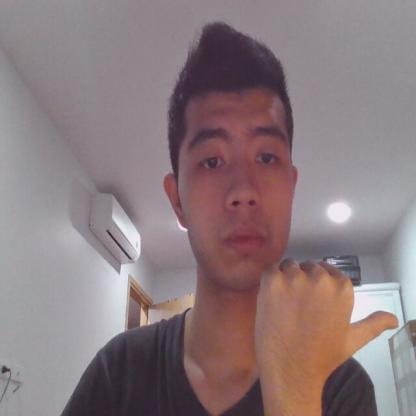left: (253, 258, 400, 382)
